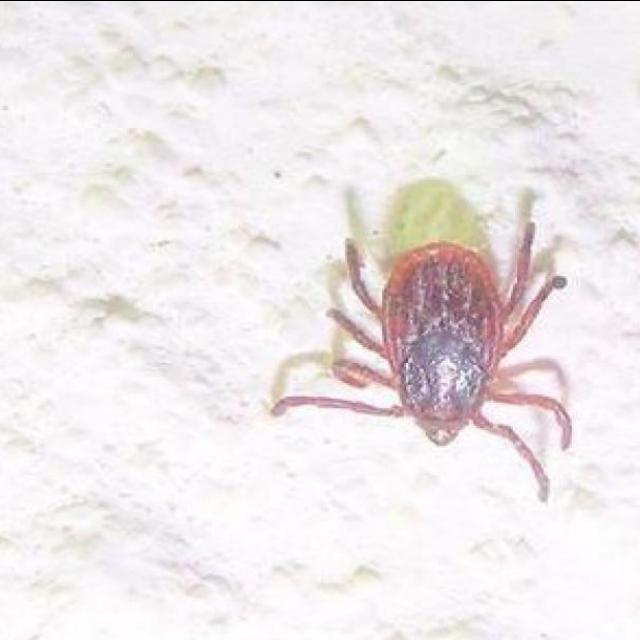Rhipicephalus Sanguineus-F: (271, 222, 572, 502)
